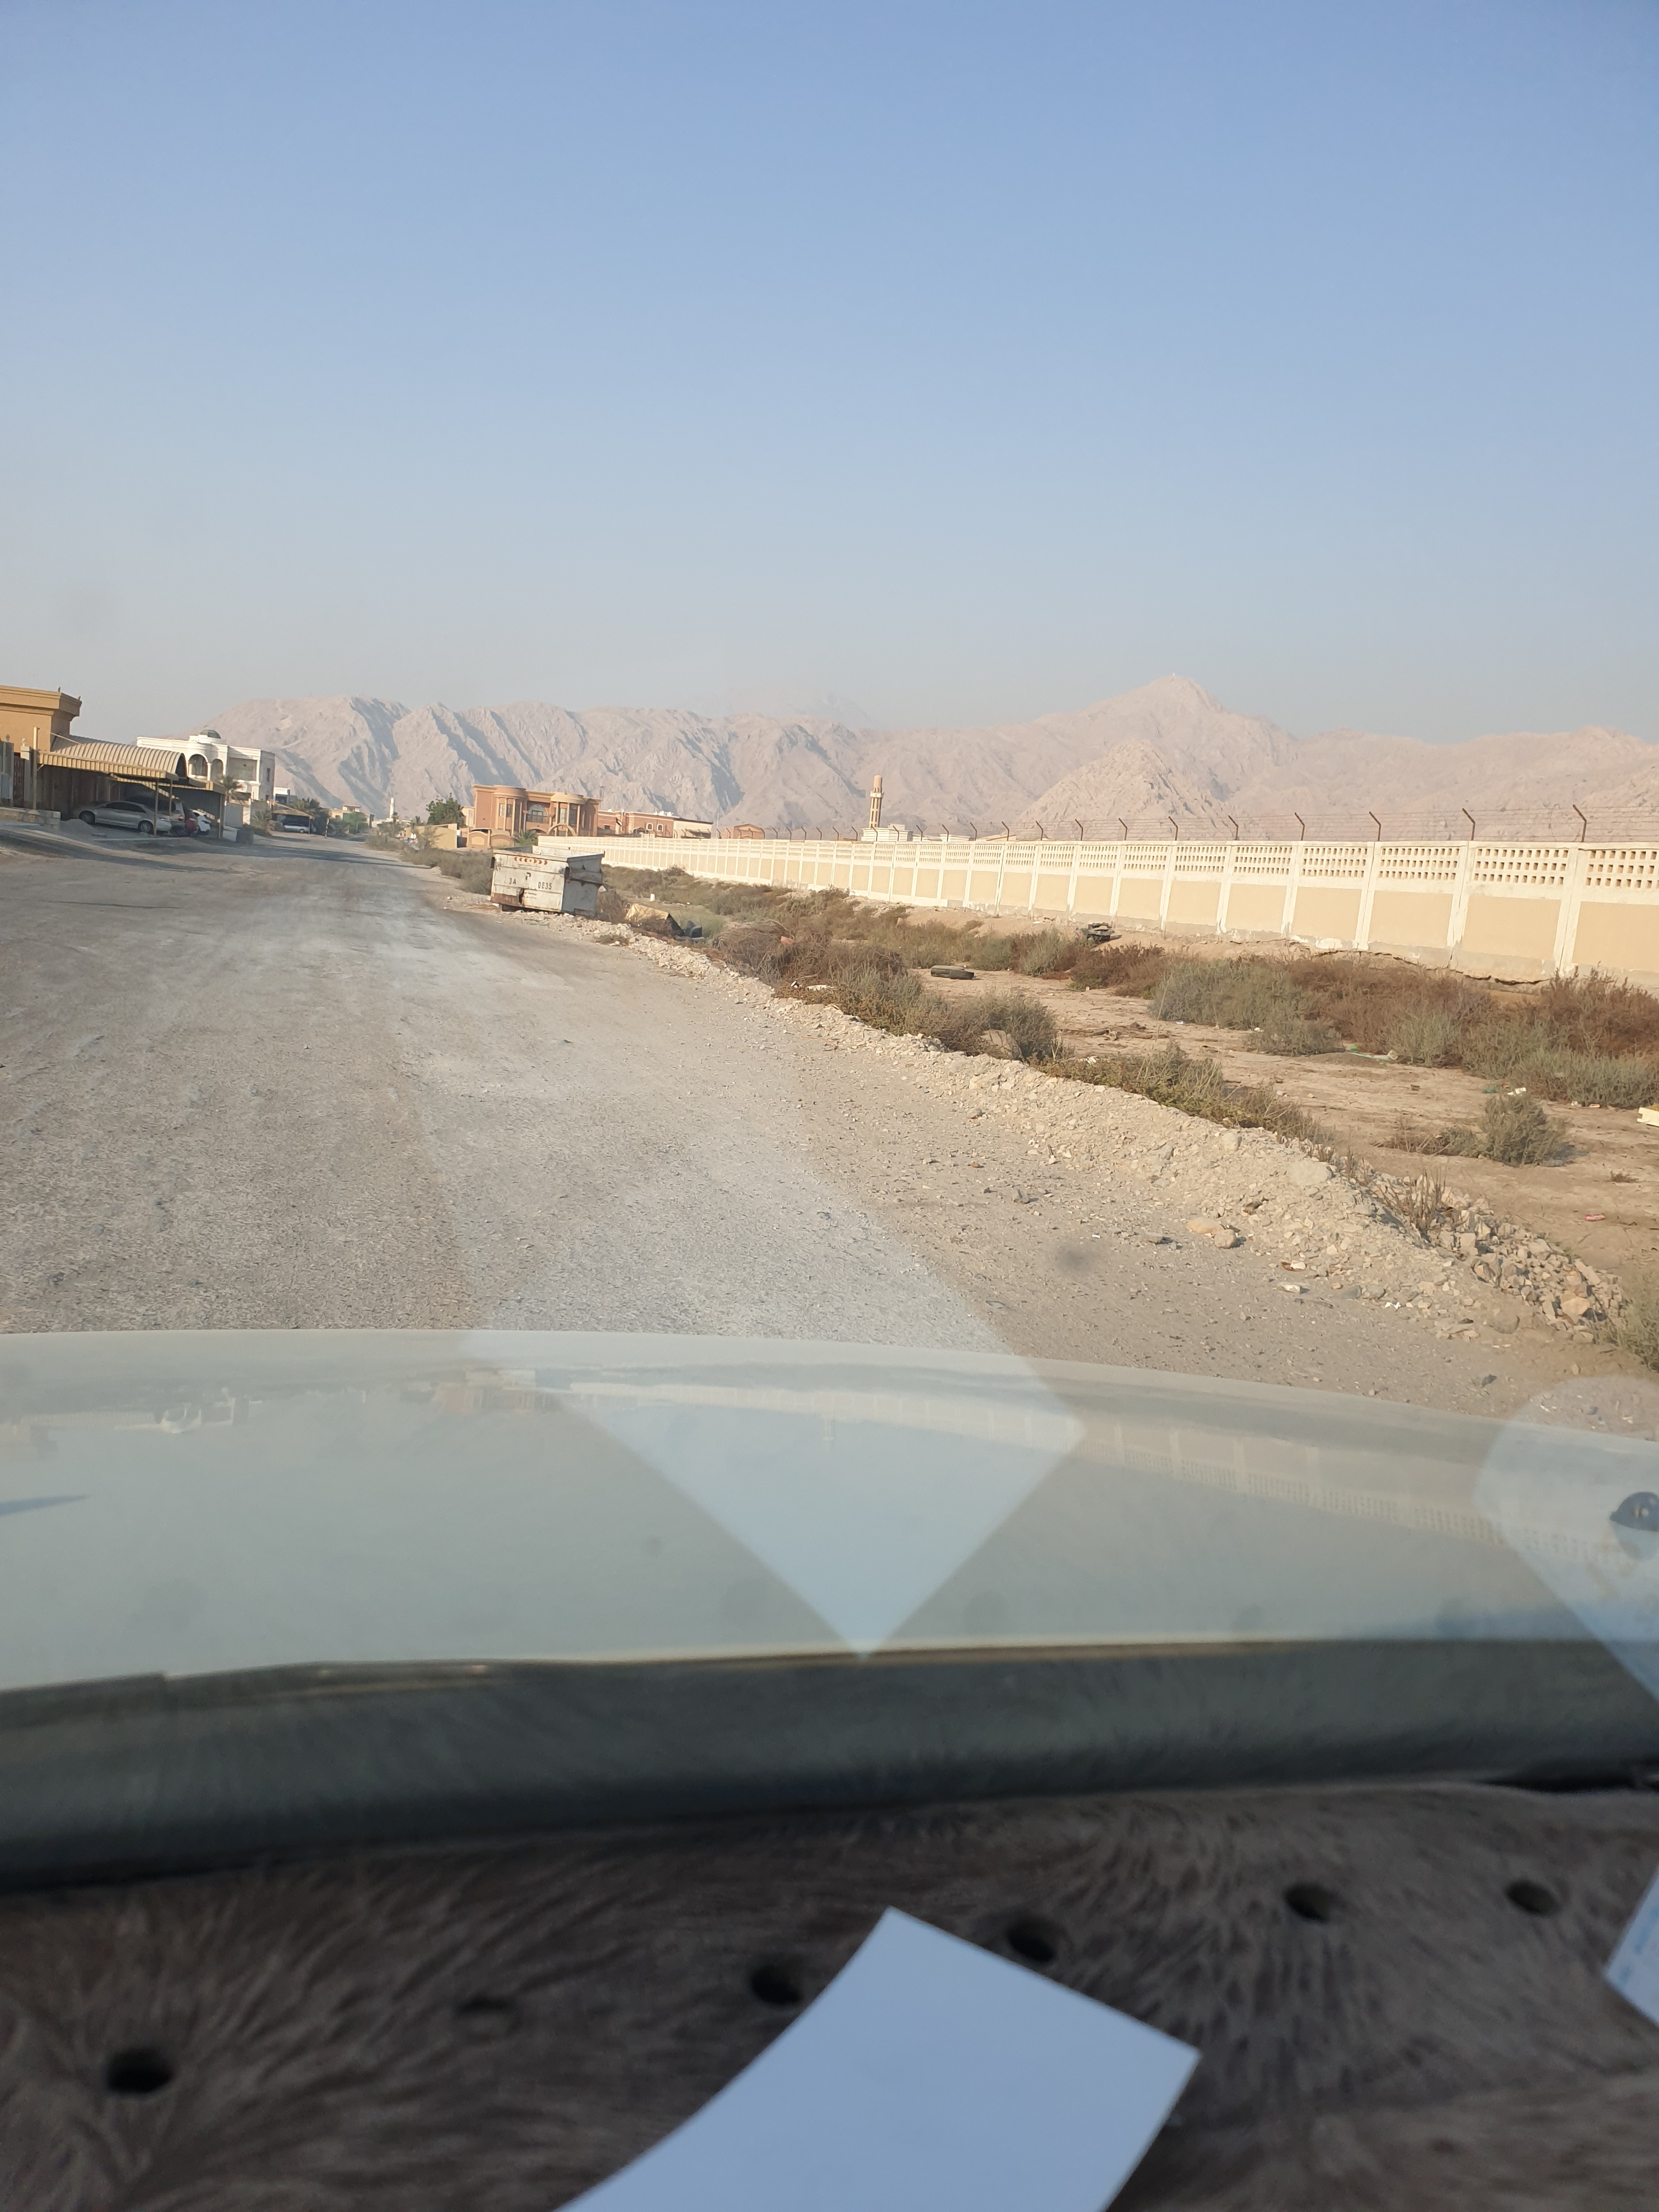uncollected_waste: (627, 900, 716, 949), (1079, 913, 1117, 951), (924, 958, 983, 979)
